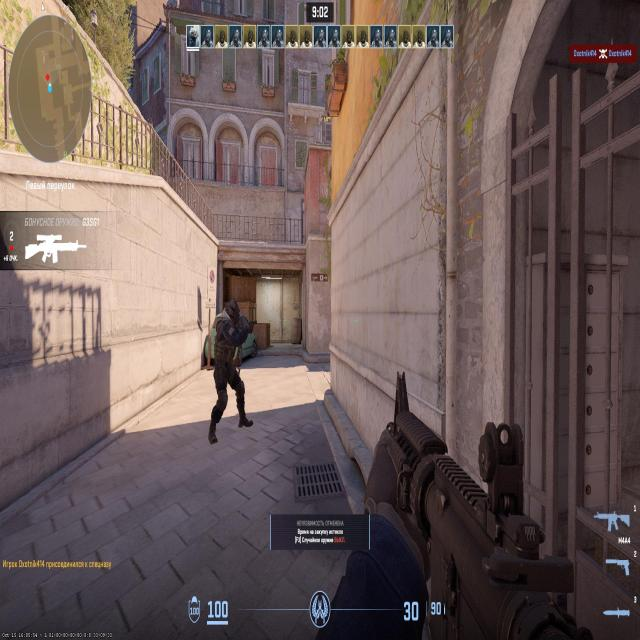CT: (218, 307, 245, 444)
CT_heat: (224, 303, 237, 329)
